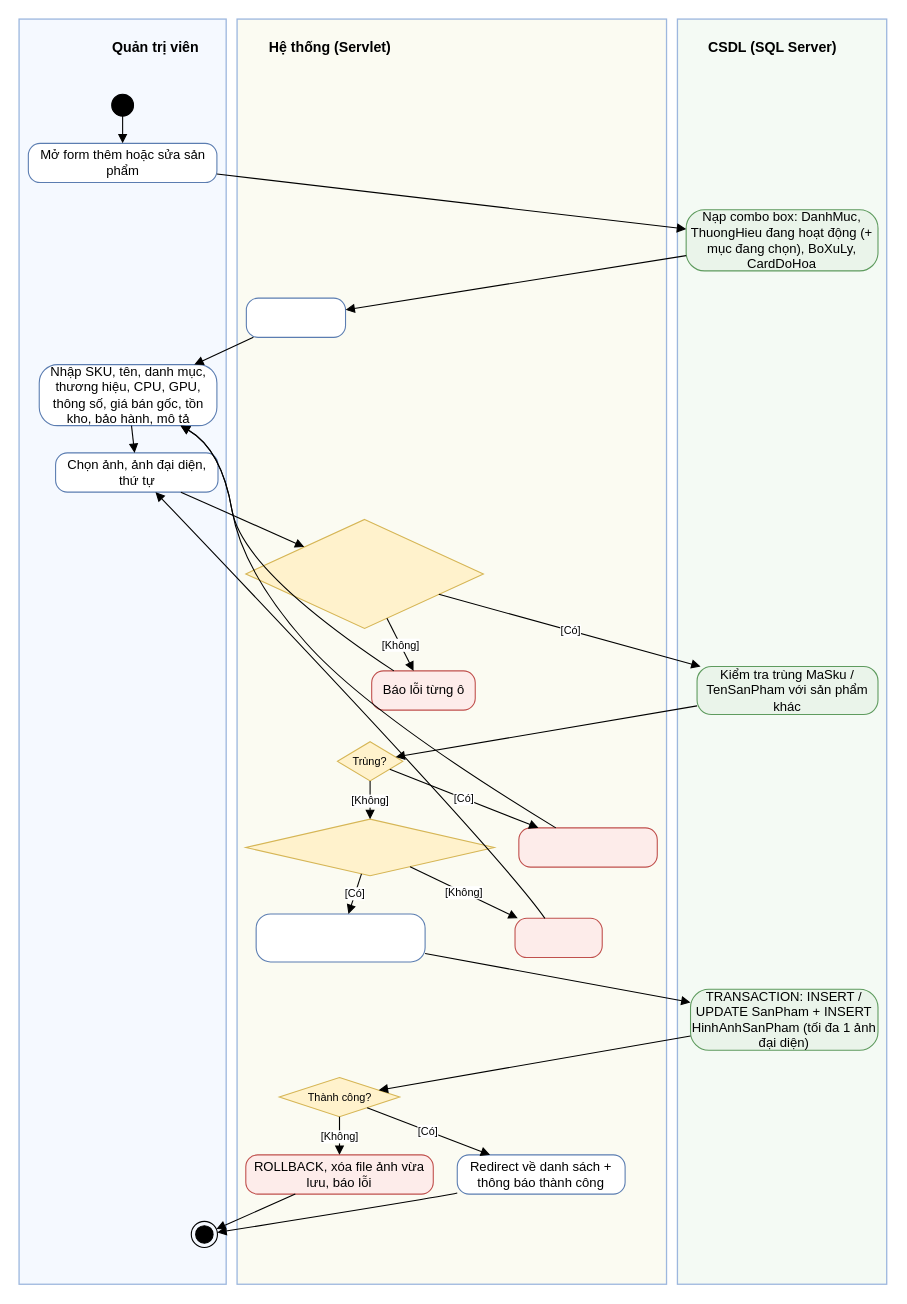
This 907x1304 diagram has some shape labels left out. The box of each missing label's shape, as (x1, y1, x2, y2) in pixels:
Báo lỗi ảnh: (514, 917, 602, 958)
Báo trùng SKU / tên: (518, 827, 657, 867)
Dữ liệu hợp lệ? (giá > 0, tồn kho >= 0, thông số đúng kiểu và khoảng): (245, 518, 483, 628)
Hiển thị form: (245, 297, 346, 337)
Lưu file ảnh vào thư mục ngoài WebApp, tên ngẫu nhiên: (255, 913, 425, 962)
Ảnh là jpg/png/webp và <= 2 MB?: (245, 818, 494, 876)
